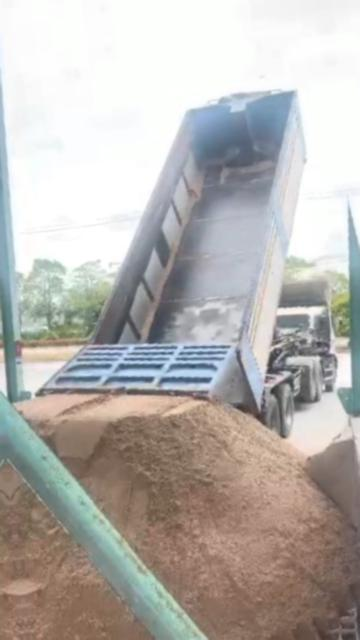sand: (21, 395, 359, 640), (7, 468, 176, 640), (307, 428, 360, 528)
